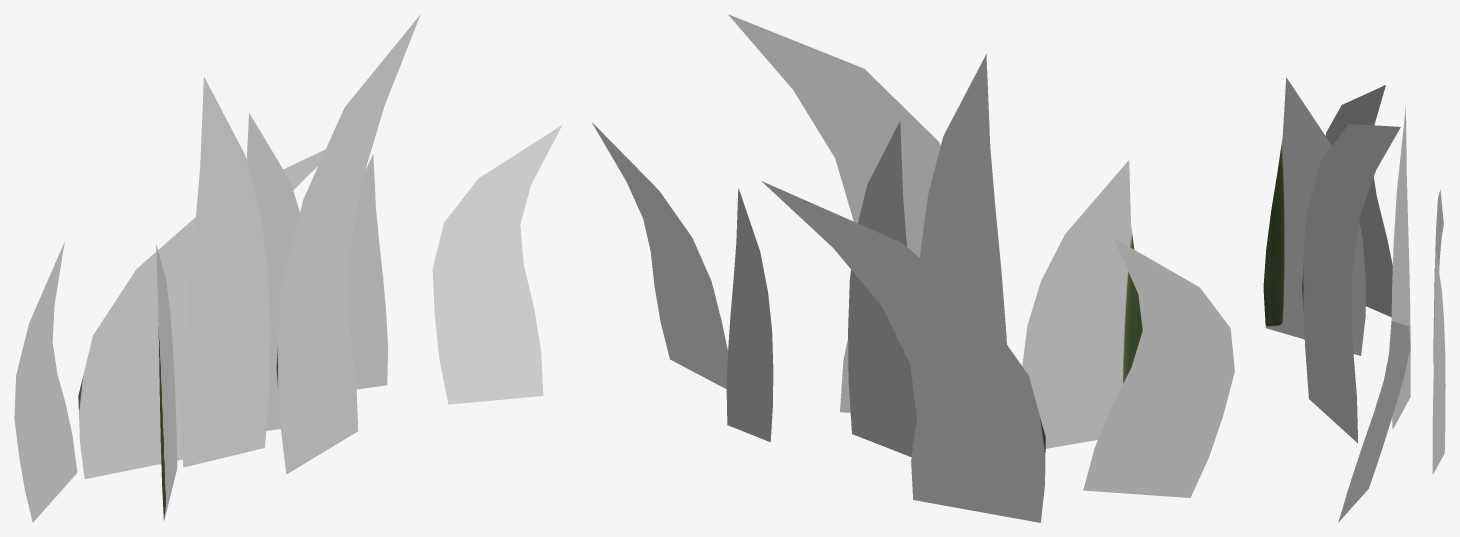
Rendered from Grass2.fbx.
The picture shows the model from 3 angles, left to right: view 1: azimuth 30°, elevation 25°; view 2: azimuth 150°, elevation 25°; view 3: azimuth 270°, elevation 25°; orthographic projection. The views are drawn at different scales.
Parts seen in each view (by area): view 1: grass2; view 2: grass2; view 3: grass2.
Part boxes in pixels (x1,y1,x2,y2): grass2: [14, 14, 562, 522]; grass2: [592, 14, 1234, 522]; grass2: [1263, 77, 1445, 522].
Bounding box in the file's own units: 73.27 × 49.51 × 21.09.
Materials: 1 (1 with a texture image).
